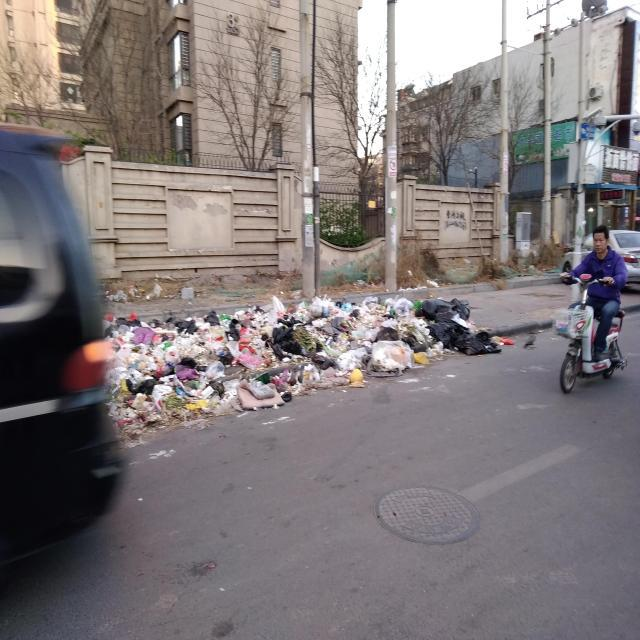Trashbag: (420, 294, 474, 322), (458, 329, 499, 356), (427, 317, 461, 343)
